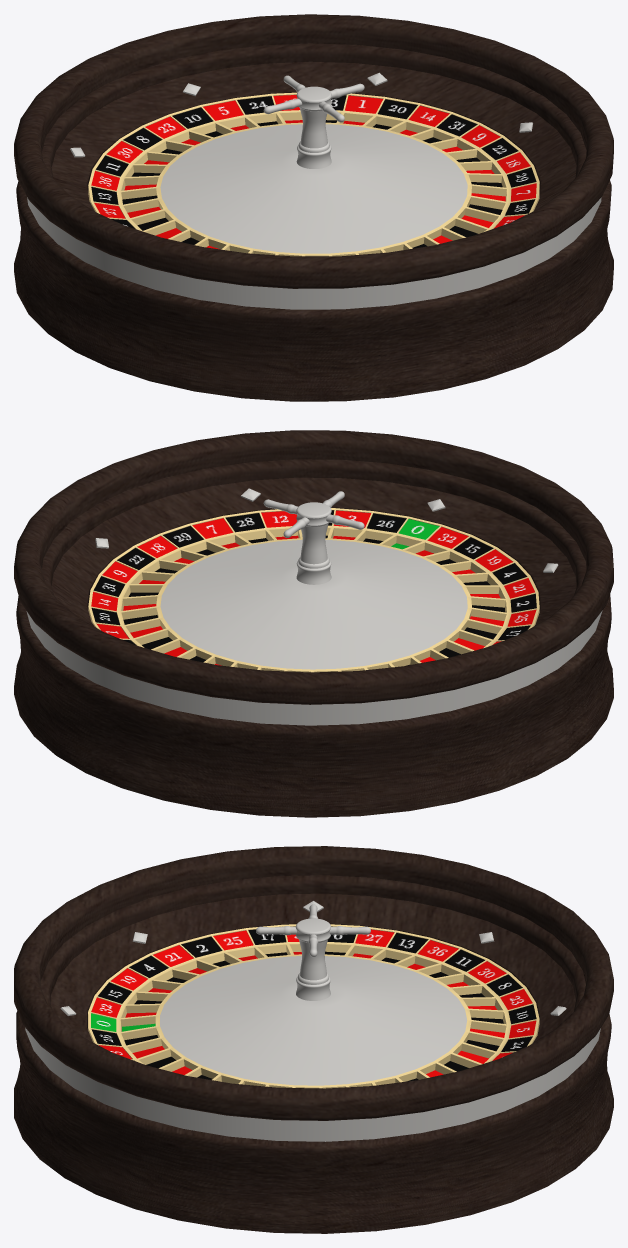
File: Roulette.fbx
3 renders of one model, top to bottom at view 1: azimuth 30°, elevation 25°; view 2: azimuth 150°, elevation 25°; view 3: azimuth 270°, elevation 25°, orthographic.
Visible parts, largest first — view 1: Roulette.001, Roulette.002; view 2: Roulette.001, Roulette.002; view 3: Roulette.001, Roulette.002.
Boxes of the visible parts, left/top/right/bottom form: Roulette.001: left=14, top=14, right=613, bottom=401; Roulette.002: left=88, top=75, right=539, bottom=256; Roulette.001: left=14, top=430, right=613, bottom=817; Roulette.002: left=88, top=491, right=539, bottom=672; Roulette.001: left=14, top=846, right=613, bottom=1233; Roulette.002: left=88, top=904, right=539, bottom=1088.
Bounding box in the file's own units: 200 × 66.79 × 200.
